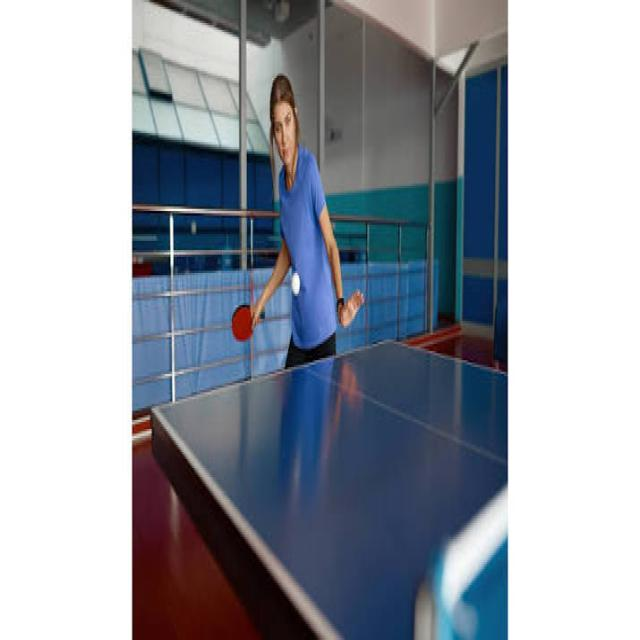TT Racket: (229, 296, 257, 347)
TT Table: (153, 340, 508, 638)
